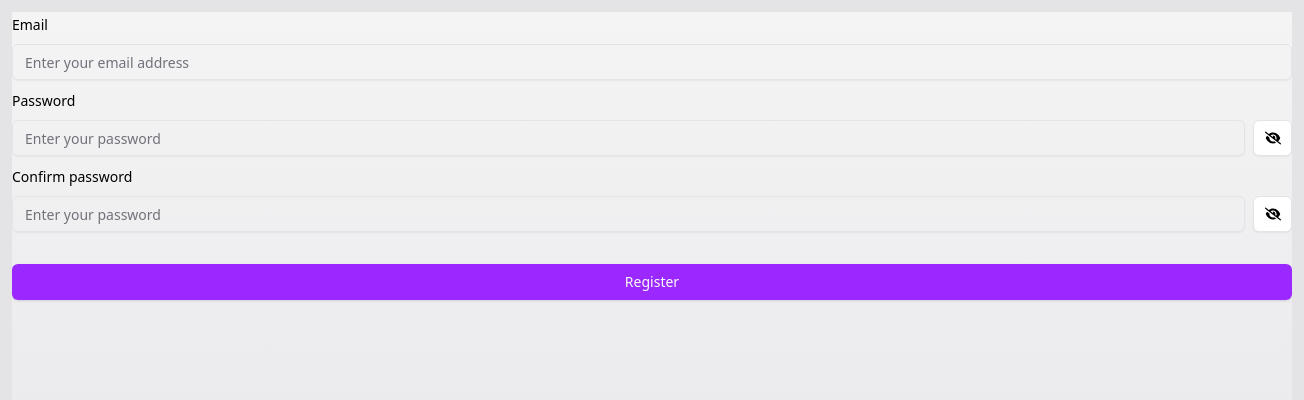
Test: RegisterForm › validates email format
Click the button "Register": (652, 282) [12,264,1292,300]
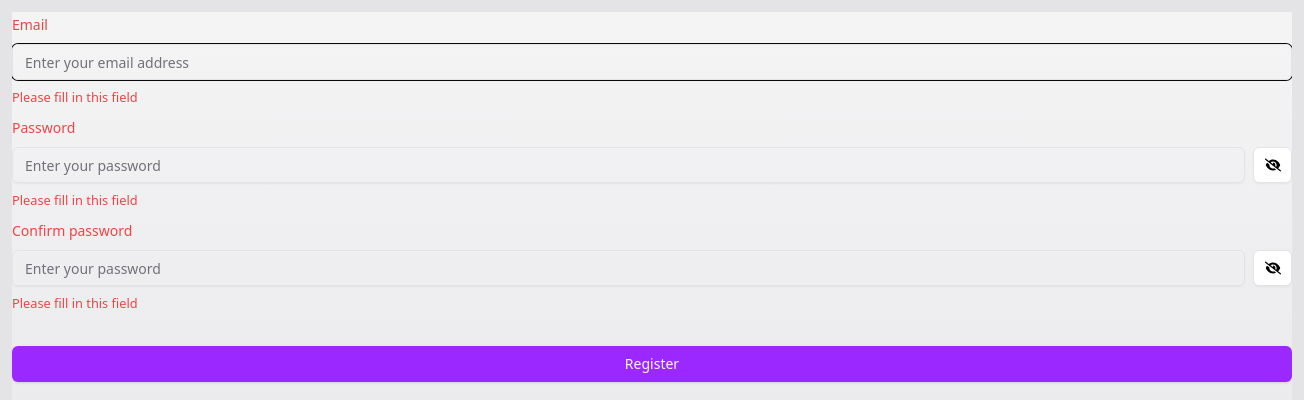
In the field labelled "Email": (652, 62) [12,44,1292,80], type "blah"
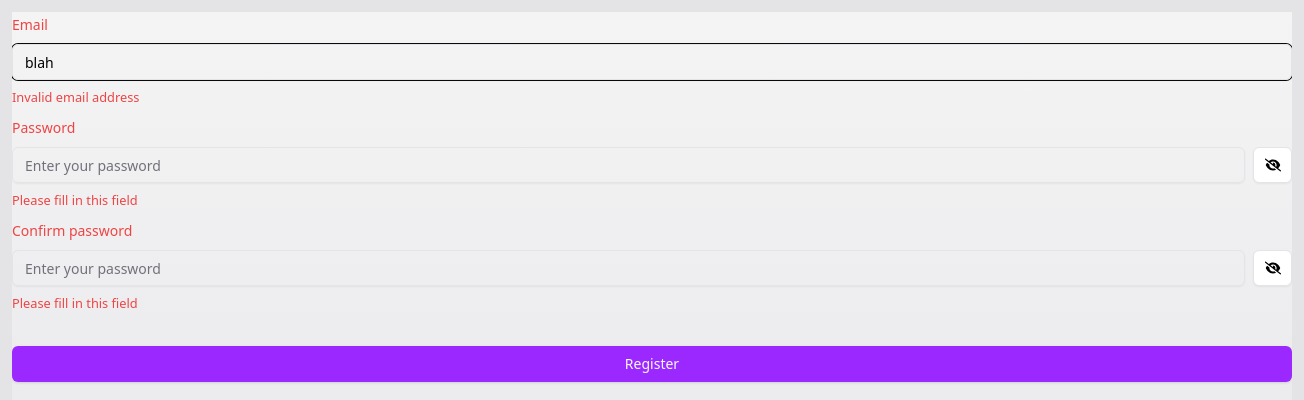
Result: the text "Invalid email address" is shown at [12,88,140,106]
